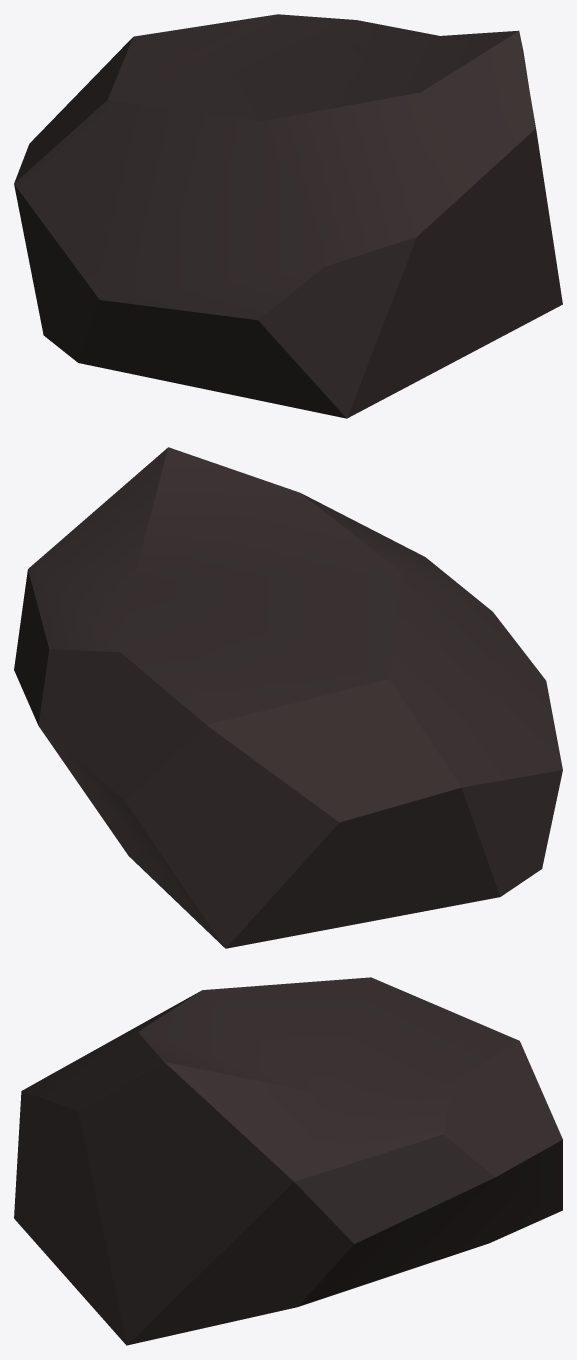
The model's file is woodland_rock_1.glb.
3 renders of one model, top to bottom at view 1: azimuth 30°, elevation 25°; view 2: azimuth 150°, elevation 25°; view 3: azimuth 270°, elevation 25°, orthographic. The views are drawn at different scales.
Visible parts, largest first — view 1: Rock 1; view 2: Rock 1; view 3: Rock 1.
Part boxes in pixels (bbox=[...]): Rock 1: bbox=[14, 14, 562, 418]; Rock 1: bbox=[14, 447, 562, 948]; Rock 1: bbox=[14, 977, 562, 1345].
Bounding box in the file's own units: 3.21 × 1.81 × 3.23.
1 material, 1 textured.
